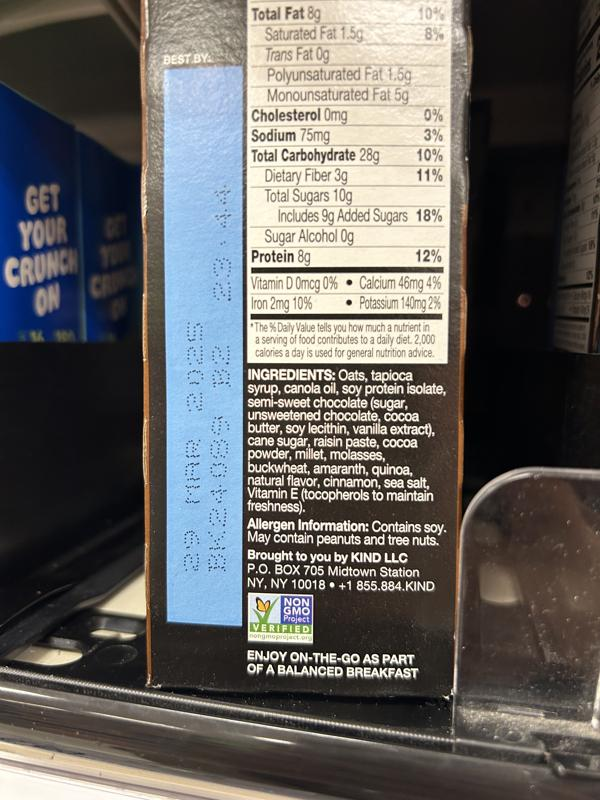ingredients: (246, 367, 447, 516)
